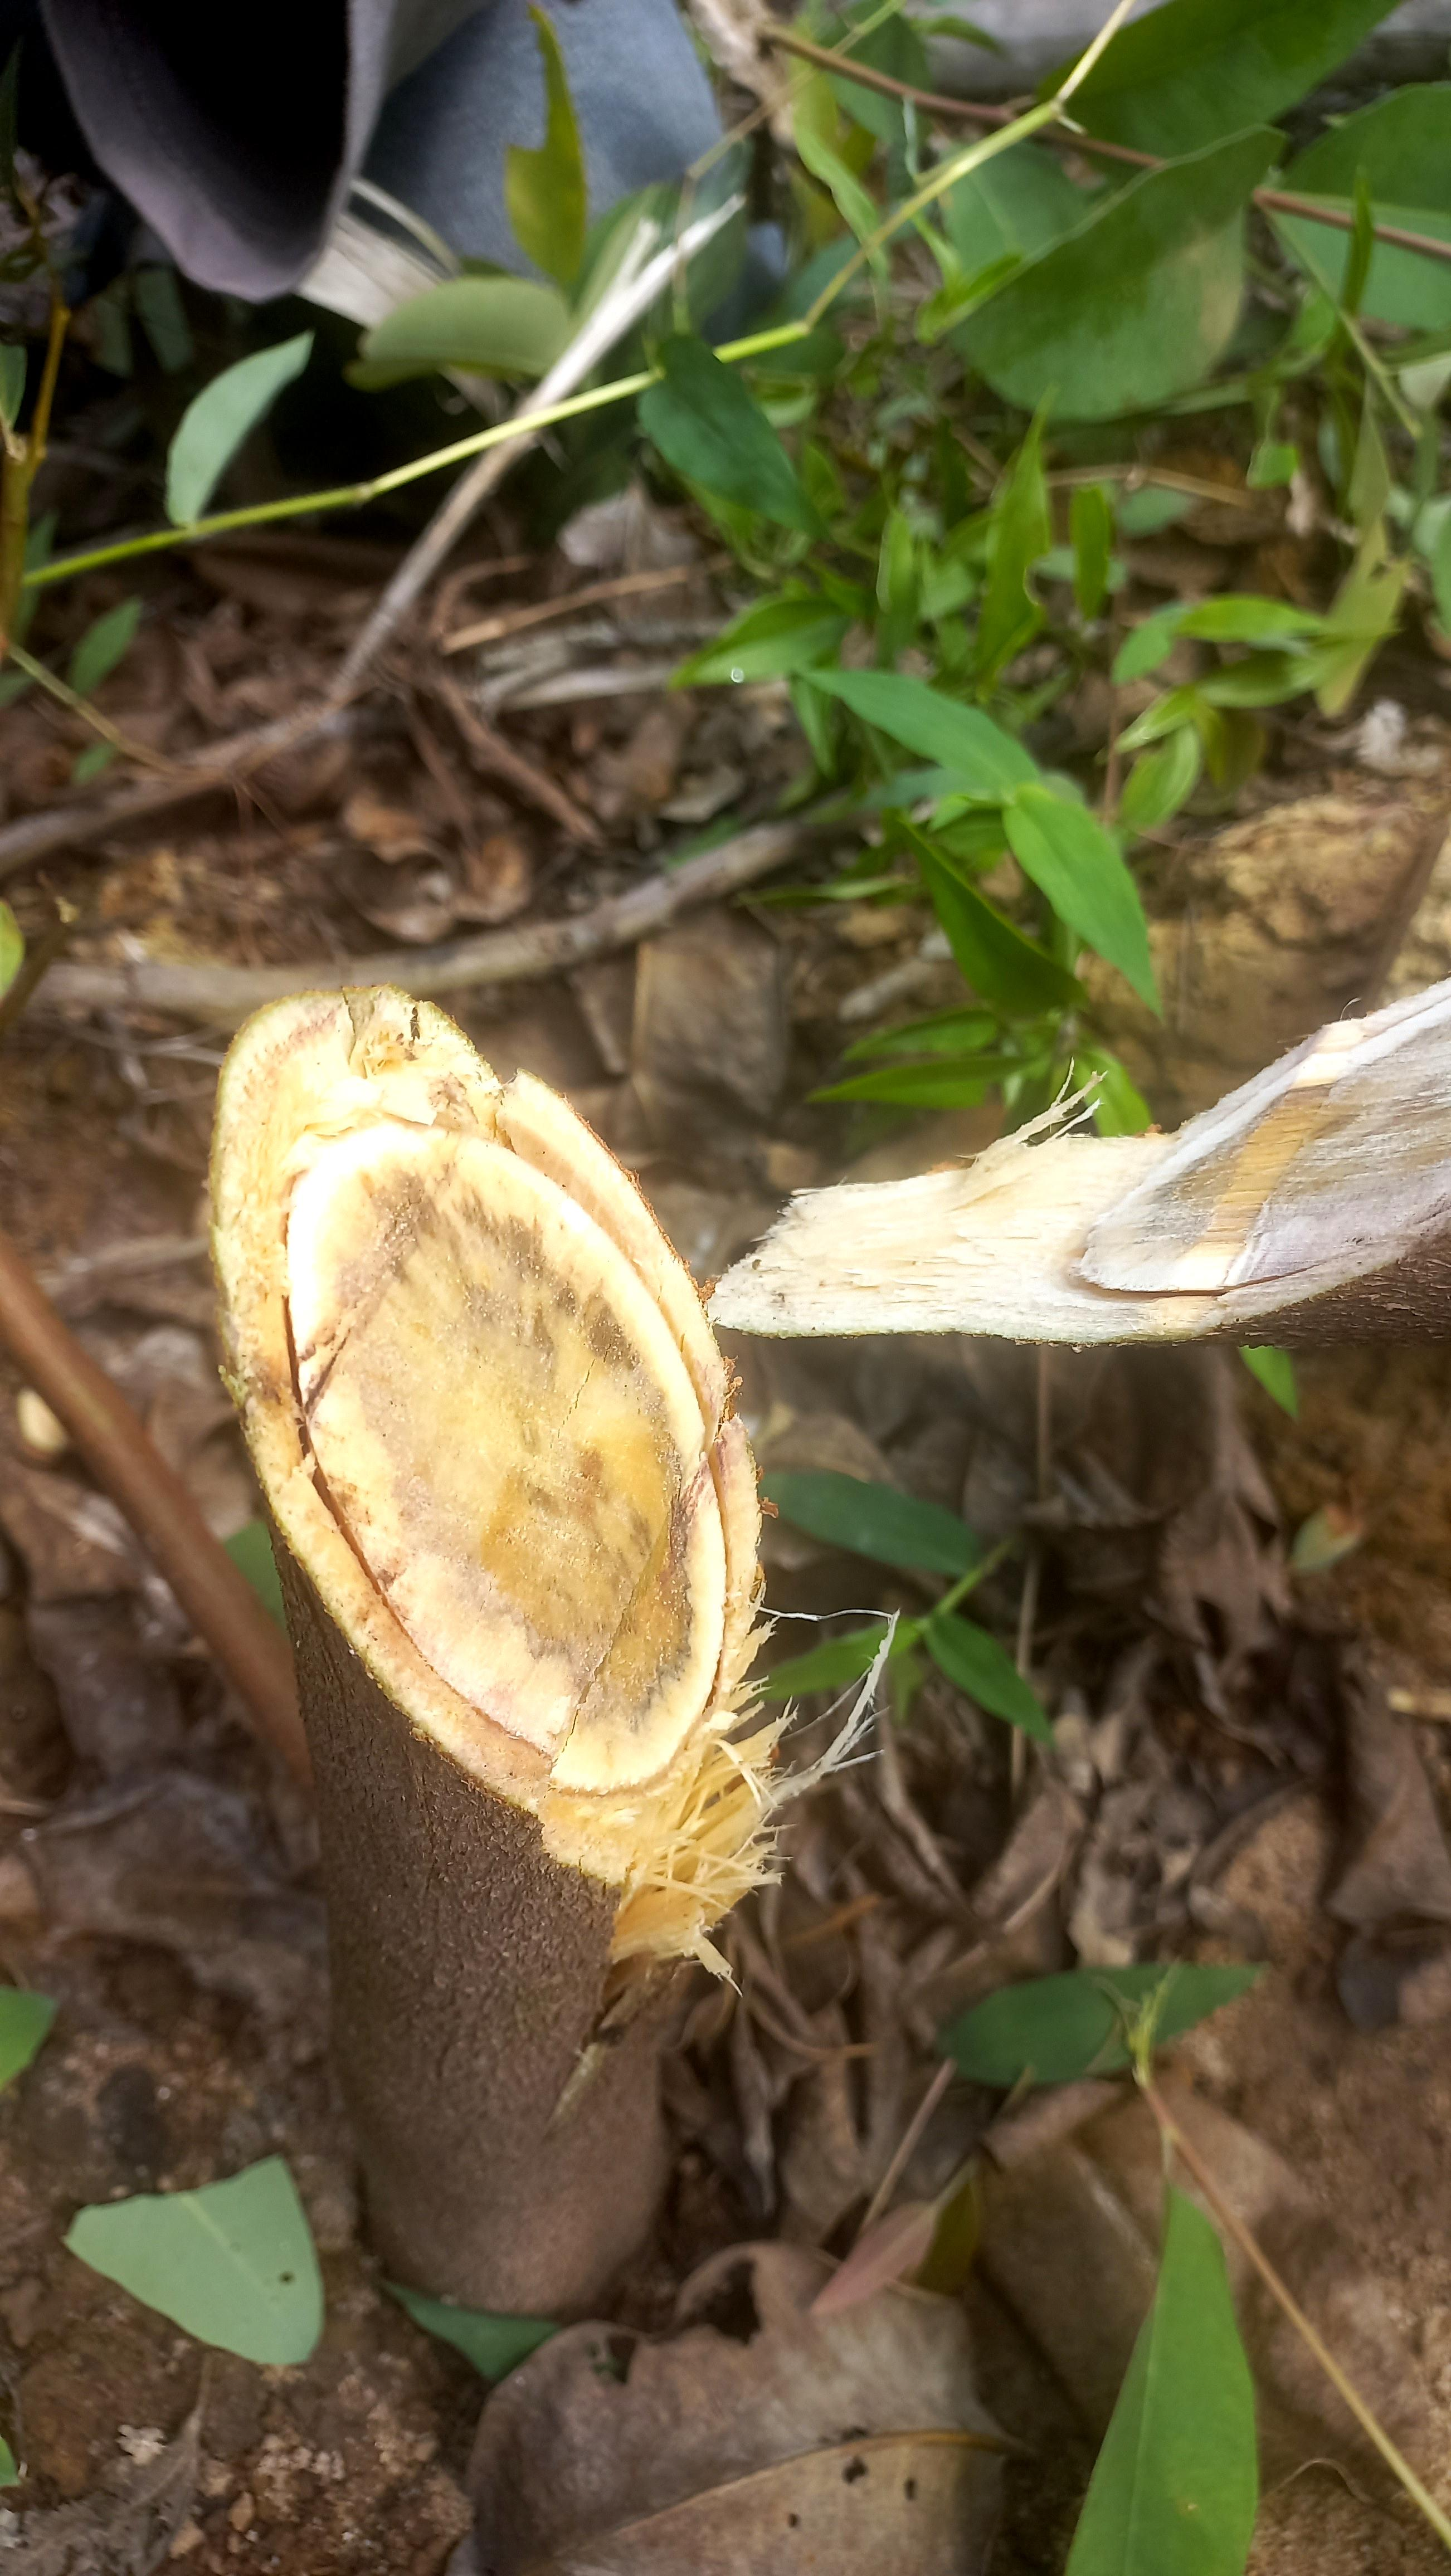Ralstonia: (357, 1138, 706, 1729), (1168, 1046, 1451, 1281)
